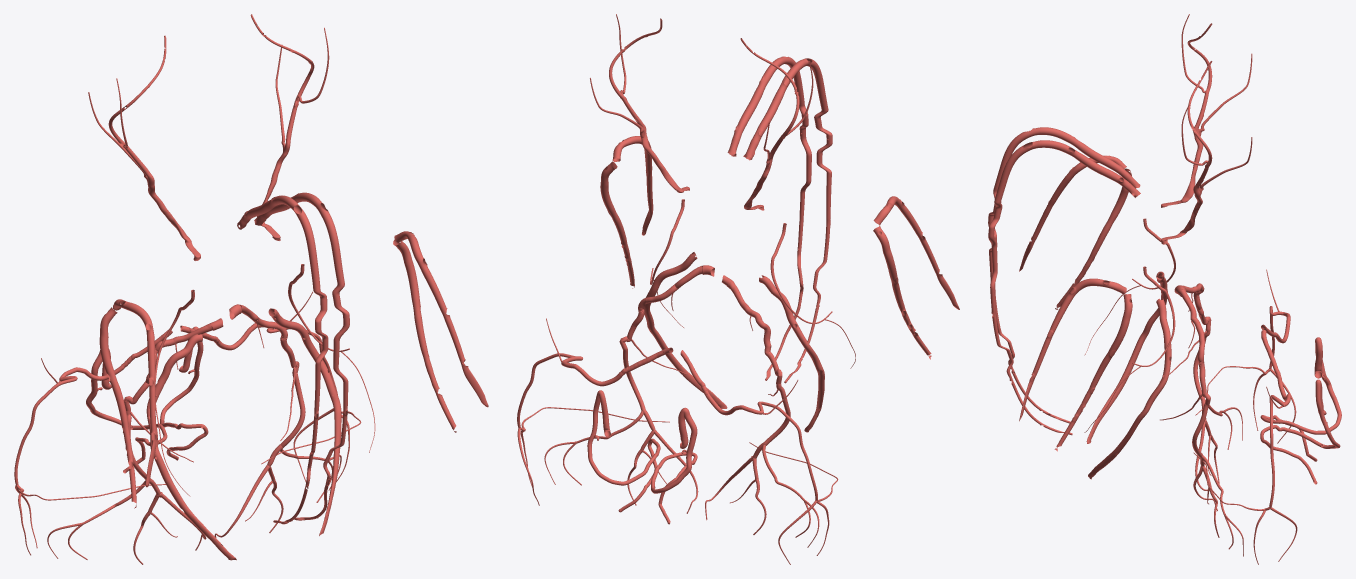
The picture shows the model from 3 angles, left to right: view 1: azimuth 30°, elevation 25°; view 2: azimuth 150°, elevation 25°; view 3: azimuth 270°, elevation 25°; orthographic projection. The views are drawn at different scales.
Visible parts, largest first — view 1: PCA P2-P3 left, PCA P2-P3 right, MCA inferior division left, MCA superior division right, MCA inferior division right, MCA superior division left, SCA right, Ophthalmic left, SCA left, Ophthalmic right, AICA left, ACA A4 left (+5 smaller); view 2: SCA right, SCA left, PCA P2-P3 right, PCA P2-P3 left, AICA right, MCA superior division left, AICA left, Ophthalmic right, MCA inferior division left, MCA inferior division right, ACA A2 right, ACA A2 left (+4 smaller); view 3: PCA P2-P3 right, MCA superior division right, SCA right, PCA P2-P3 left, MCA inferior division right, Ophthalmic left, ACA A2 right, ACA A2 left, Ophthalmic right, AICA right, MCA superior division left, MCA inferior division left (+6 smaller).
Boxes of the visible parts, <box> form: PCA P2-P3 left: <box>146,334,236,560</box>; PCA P2-P3 right: <box>268,308,341,535</box>; MCA inferior division left: <box>99,307,136,508</box>; MCA superior division right: <box>394,231,488,407</box>; MCA inferior division right: <box>393,240,456,432</box>; MCA superior division left: <box>113,299,156,487</box>; SCA right: <box>229,304,305,466</box>; Ophthalmic left: <box>108,35,200,260</box>; SCA left: <box>124,318,223,497</box>; Ophthalmic right: <box>250,14,314,240</box>; AICA left: <box>14,329,172,485</box>; ACA A4 left: <box>312,277,328,435</box>; SCA right: <box>619,265,714,430</box>; SCA left: <box>722,275,790,460</box>; PCA P2-P3 right: <box>644,252,727,408</box>; PCA P2-P3 left: <box>759,275,824,432</box>; AICA right: <box>517,347,673,428</box>; MCA superior division left: <box>873,196,959,309</box>; AICA left: <box>680,350,817,500</box>; Ophthalmic right: <box>609,18,689,192</box>; MCA inferior division left: <box>873,226,931,359</box>; MCA inferior division right: <box>600,161,634,288</box>; ACA A2 right: <box>727,57,783,156</box>; ACA A2 left: <box>743,60,804,160</box>; PCA P2-P3 right: <box>1088,298,1171,479</box>; MCA superior division right: <box>1019,278,1126,421</box>; SCA right: <box>1175,285,1210,466</box>; PCA P2-P3 left: <box>1086,271,1167,443</box>; MCA inferior division right: <box>1054,294,1132,451</box>; Ophthalmic left: <box>1161,23,1212,207</box>; ACA A2 right: <box>1038,140,1140,197</box>; ACA A2 left: <box>1040,127,1140,188</box>; Ophthalmic right: <box>1161,61,1212,244</box>; AICA right: <box>1261,330,1291,508</box>; MCA superior division left: <box>1019,155,1126,271</box>; MCA inferior division left: <box>1055,168,1131,309</box>.
Bounding box in the file's own units: 95.79 × 141 × 96.63.
